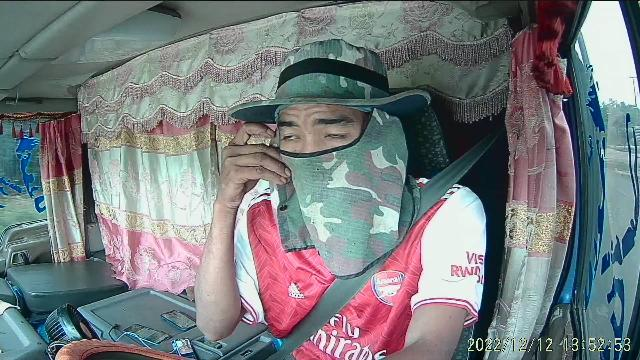PhoneUse: (123, 321, 173, 347), (156, 308, 200, 332)
SafeDriving: (276, 127, 306, 144)
Seatbelt: (289, 152, 487, 360)
